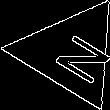N_NW: (35, 22, 106, 84)
